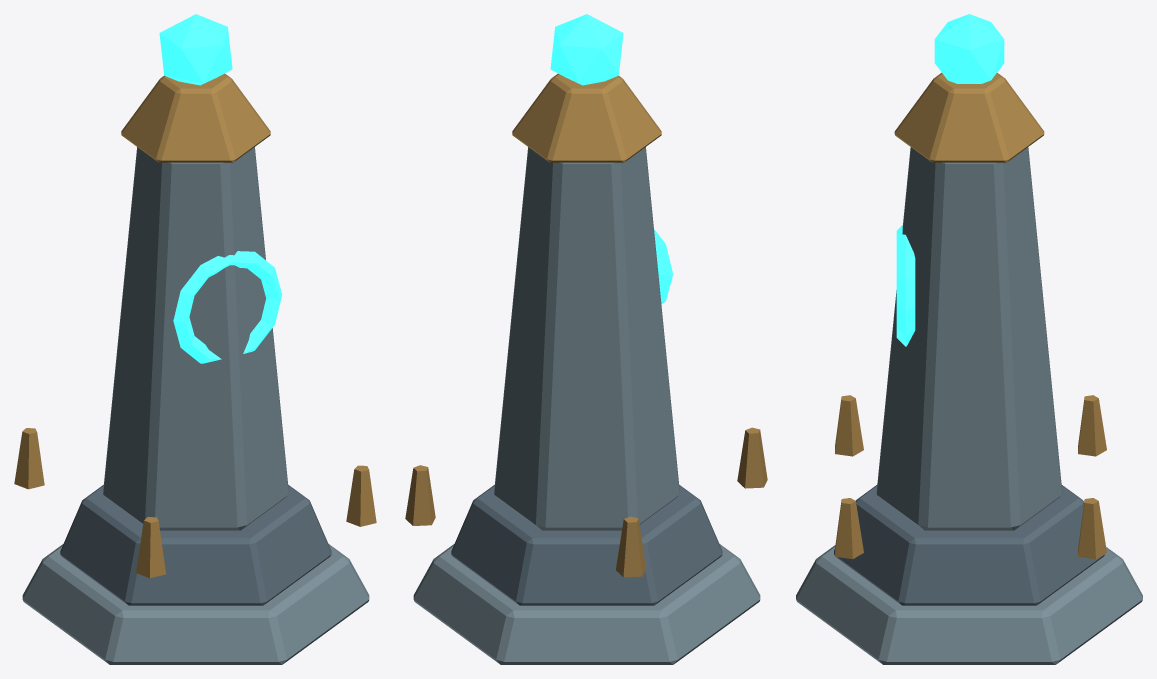
File: env_waystone.glb
3 renders of one model, left to right at view 1: azimuth 30°, elevation 25°; view 2: azimuth 150°, elevation 25°; view 3: azimuth 270°, elevation 25°, orthographic.
Visible parts, largest first — view 1: dron obelisk, hex foundation, lower plinth, bronze crown, glowing dron rune, dron crystal, corner marker.002, corner marker.001, corner marker; view 2: dron obelisk, hex foundation, lower plinth, bronze crown, dron crystal, corner marker, corner marker.003, corner marker.002, glowing dron rune; view 3: dron obelisk, hex foundation, lower plinth, bronze crown, dron crystal, glowing dron rune, corner marker.002, corner marker, corner marker.001, corner marker.003.
Part boxes in pixels (x1=…): dron obelisk: x1=103, y1=147, x2=288, y2=530; hex foundation: x1=22, y1=544, x2=369, y2=664; lower plinth: x1=60, y1=484, x2=331, y2=605; bronze crown: x1=121, y1=73, x2=270, y2=162; glowing dron rune: x1=173, y1=251, x2=282, y2=363; dron crystal: x1=159, y1=14, x2=232, y2=85; corner marker.002: x1=14, y1=428, x2=44, y2=489; corner marker.001: x1=346, y1=465, x2=376, y2=526; corner marker: x1=136, y1=517, x2=165, y2=578; dron obelisk: x1=494, y1=147, x2=679, y2=530; hex foundation: x1=413, y1=544, x2=760, y2=664; lower plinth: x1=451, y1=484, x2=722, y2=605; bronze crown: x1=512, y1=73, x2=661, y2=162; dron crystal: x1=550, y1=14, x2=623, y2=85; corner marker: x1=737, y1=427, x2=767, y2=488; corner marker.003: x1=405, y1=465, x2=435, y2=525; corner marker.002: x1=616, y1=516, x2=645, y2=577; glowing dron rune: x1=654, y1=229, x2=673, y2=304; dron obelisk: x1=876, y1=147, x2=1062, y2=530; hex foundation: x1=796, y1=545, x2=1142, y2=664; lower plinth: x1=834, y1=485, x2=1104, y2=605; bronze crown: x1=894, y1=72, x2=1044, y2=162; dron crystal: x1=934, y1=14, x2=1004, y2=83; glowing dron rune: x1=896, y1=225, x2=915, y2=346; corner marker.002: x1=1078, y1=395, x2=1106, y2=456; corner marker: x1=835, y1=395, x2=863, y2=456; corner marker.001: x1=835, y1=498, x2=863, y2=559; corner marker.003: x1=1078, y1=498, x2=1106, y2=559.
Size of the model in its own units: 0.8541 by 1.82 by 0.9708.
